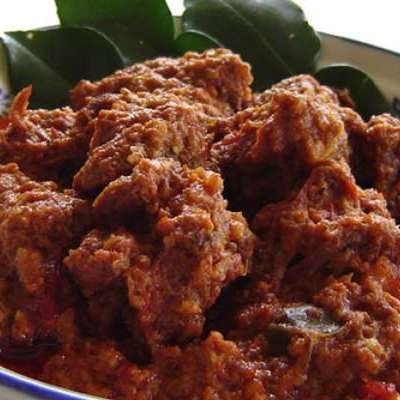rendang: (0, 81, 396, 394)
